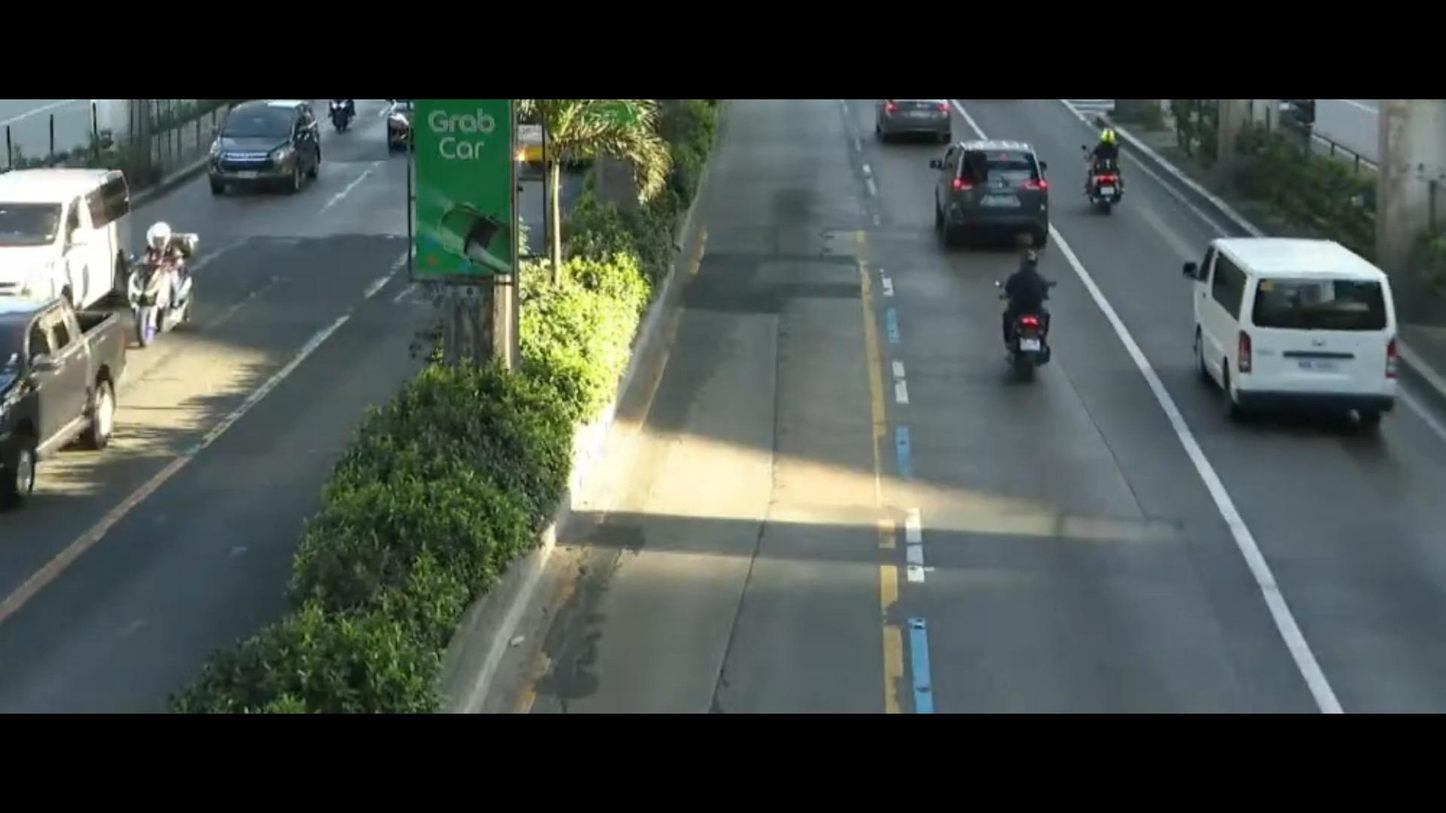Motorcycle: (964, 238, 1100, 406), (113, 209, 217, 356), (1078, 96, 1143, 229)
Pickup: (0, 290, 142, 498)
SUV: (923, 126, 1060, 253), (185, 104, 337, 198)
Van: (1177, 207, 1426, 456), (0, 164, 136, 308)
